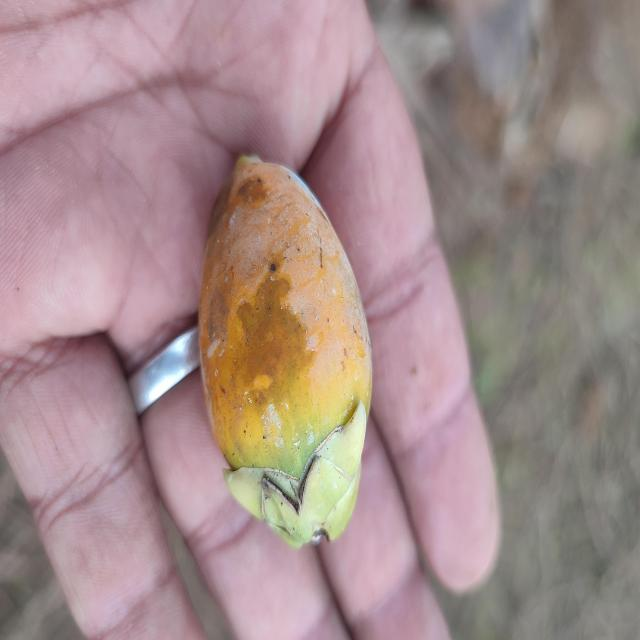good: (196, 156, 373, 551)
